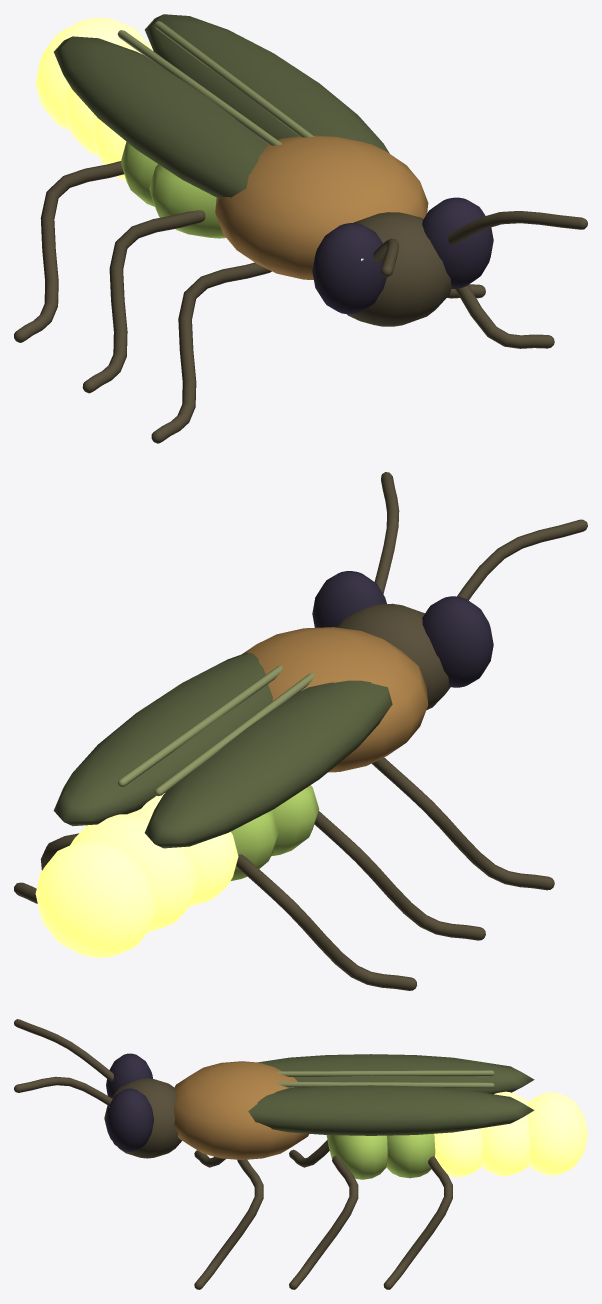
Rendered from firefly.glb.
3 views of the same model, one above another, from view 1: azimuth 30°, elevation 25°; view 2: azimuth 150°, elevation 25°; view 3: azimuth 270°, elevation 25° (orthographic). The views are drawn at different scales.
Parts seen in each view (by area): view 1: Pronotum, Protective_elytron, Protective_elytron.001, Head, Compound_eye, Compound_eye.001, Jointed_six_legs.001, Jointed_six_legs, Jointed_six_legs.002, Abdominal_segment.004, Abdominal_segment, Segmented_antenna.001 (+7 smaller); view 2: Protective_elytron, Protective_elytron.001, Pronotum, Abdominal_segment.004, Abdominal_segment.003, Compound_eye, Head, Jointed_six_legs.002, Jointed_six_legs, Jointed_six_legs.001, Abdominal_segment.002, Compound_eye.001 (+7 smaller); view 3: Protective_elytron.001, Pronotum, Protective_elytron, Abdominal_segment.004, Abdominal_segment.003, Head, Compound_eye.001, Abdominal_segment, Abdominal_segment.002, Abdominal_segment.001, Jointed_six_legs.004, Jointed_six_legs.005 (+7 smaller).
Part boxes in pixels (box(x1,y1,x2,y2)): Pronotum: box(215, 135, 428, 279); Protective_elytron: box(54, 36, 267, 198); Protective_elytron.001: box(145, 14, 389, 153); Head: box(347, 212, 451, 326); Compound_eye: box(312, 223, 386, 314); Compound_eye.001: box(422, 197, 493, 288); Jointed_six_legs.001: box(82, 210, 205, 393); Jointed_six_legs: box(151, 262, 271, 443); Jointed_six_legs.002: box(14, 161, 124, 342); Abdominal_segment.004: box(35, 18, 147, 129); Abdominal_segment: box(149, 164, 225, 238); Segmented_antenna.001: box(448, 211, 587, 244); Protective_elytron: box(144, 680, 392, 848); Protective_elytron.001: box(53, 652, 272, 826); Pronotum: box(242, 627, 428, 772); Abdominal_segment.004: box(35, 839, 157, 957); Abdominal_segment.003: box(70, 814, 197, 932); Compound_eye: box(422, 596, 493, 687); Head: box(337, 603, 450, 710); Jointed_six_legs.002: box(236, 854, 416, 990); Jointed_six_legs: box(372, 757, 554, 890); Jointed_six_legs.001: box(314, 811, 485, 940); Abdominal_segment.002: box(128, 793, 238, 906); Compound_eye.001: box(312, 571, 386, 627); Protective_elytron.001: box(248, 1085, 534, 1135); Pronotum: box(174, 1061, 308, 1159); Protective_elytron: box(257, 1054, 534, 1094); Abdominal_segment.004: box(528, 1092, 587, 1175); Abdominal_segment.003: box(481, 1091, 530, 1176); Head: box(104, 1078, 181, 1158); Compound_eye.001: box(106, 1088, 153, 1151); Abdominal_segment: box(326, 1135, 387, 1179); Abdominal_segment.002: box(434, 1128, 482, 1177); Abdominal_segment.001: box(386, 1133, 435, 1178); Jointed_six_legs.004: box(289, 1155, 358, 1289); Jointed_six_legs.005: box(383, 1156, 452, 1289).
Size of the model in its own units: 0.0371 by 0.022 by 0.0667.
